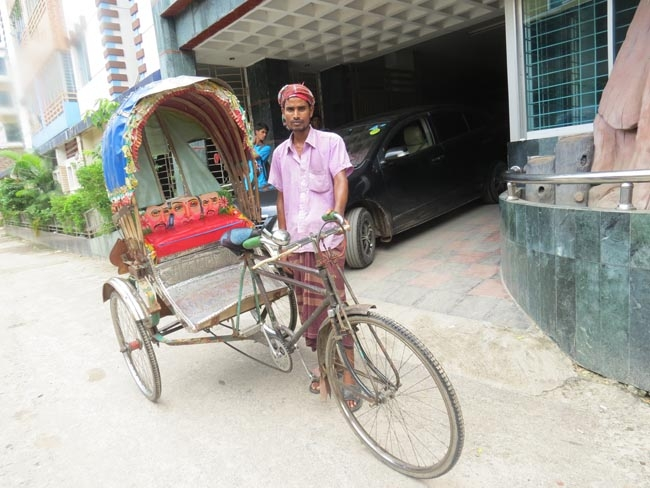Rickshaw: (80, 64, 482, 472)
